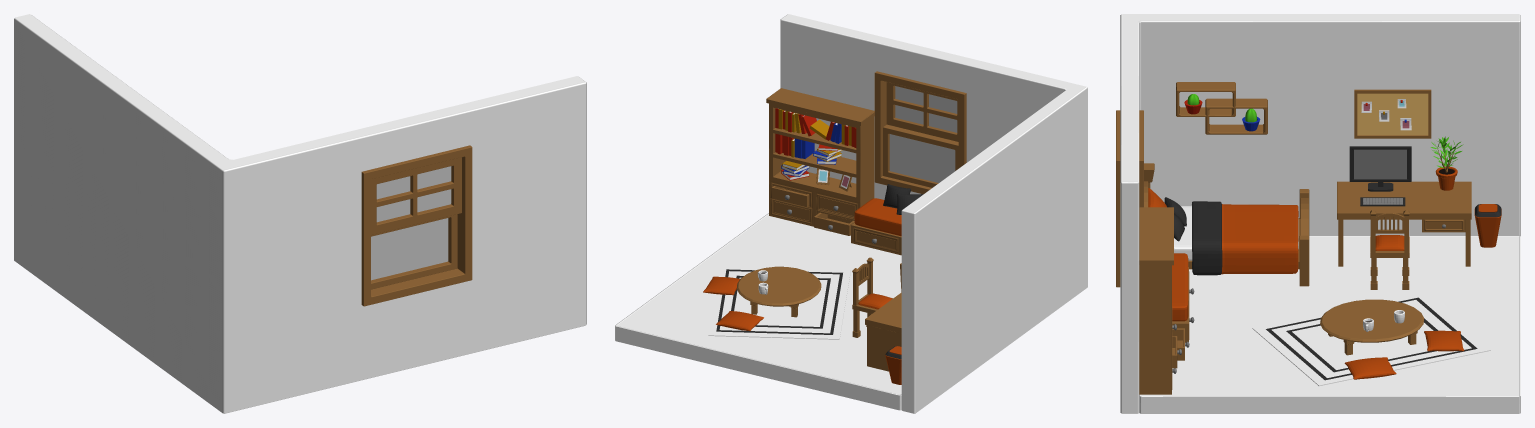
The model's file is another_bedroom.obj.
The picture shows the model from 3 angles, left to right: view 1: azimuth 30°, elevation 25°; view 2: azimuth 150°, elevation 25°; view 3: azimuth 270°, elevation 25°; orthographic projection. The views are drawn at different scales.
Visible parts, largest first — view 1: Wall_Cube.003, Window_Cube.004; view 2: Wall_Cube.003, Floor_Cube.001, Bookshelf_Cube.016, Window_Cube.004, Carpet_Plane, Coffe_table_Cube.024, Sofa_Cube.008, Table_Cube.017, Book.001_Cube.022, Chair_Cube.052, Book.002_Cube.020, Cushion.001_Cube.032 (+4 smaller); view 3: Wall_Cube.003, Floor_Cube.001, Bed_Cube.011, Carpet_Plane, Bookshelf_Cube.016, Table_Cube.017, Board_Cube.050, Coffe_table_Cube.024, Wallshelf_Cube.002, PC_Cube.021, Chair_Cube.052, Bed_frame_Cube.010 (+8 smaller).
Boxes of the visible parts, x1=… form: Wall_Cube.003: x1=14, y1=14, x2=586, y2=413; Window_Cube.004: x1=361, y1=145, x2=472, y2=306; Wall_Cube.003: x1=780, y1=14, x2=1087, y2=413; Floor_Cube.001: x1=615, y1=213, x2=901, y2=410; Bookshelf_Cube.016: x1=766, y1=88, x2=874, y2=235; Window_Cube.004: x1=874, y1=71, x2=966, y2=194; Carpet_Plane: x1=708, y1=265, x2=850, y2=339; Coffe_table_Cube.024: x1=737, y1=266, x2=821, y2=317; Sofa_Cube.008: x1=851, y1=198, x2=901, y2=255; Table_Cube.017: x1=865, y1=292, x2=901, y2=371; Book.001_Cube.022: x1=775, y1=108, x2=856, y2=147; Chair_Cube.052: x1=852, y1=257, x2=892, y2=337; Book.002_Cube.020: x1=775, y1=133, x2=814, y2=158; Cushion.001_Cube.032: x1=716, y1=311, x2=763, y2=331; Wall_Cube.003: x1=1120, y1=14, x2=1520, y2=413; Floor_Cube.001: x1=1139, y1=235, x2=1520, y2=413; Bed_Cube.011: x1=1174, y1=201, x2=1298, y2=275; Carpet_Plane: x1=1252, y1=292, x2=1490, y2=386; Bookshelf_Cube.016: x1=1139, y1=207, x2=1189, y2=394; Table_Cube.017: x1=1337, y1=181, x2=1471, y2=266; Board_Cube.050: x1=1354, y1=89, x2=1431, y2=138; Coffe_table_Cube.024: x1=1320, y1=299, x2=1424, y2=355; Wallshelf_Cube.002: x1=1176, y1=82, x2=1267, y2=134; PC_Cube.021: x1=1349, y1=146, x2=1411, y2=191; Chair_Cube.052: x1=1370, y1=210, x2=1409, y2=289; Bed_frame_Cube.010: x1=1144, y1=163, x2=1309, y2=286.
Size of the model in its own units: 8.4 by 5.37 by 8.49.
